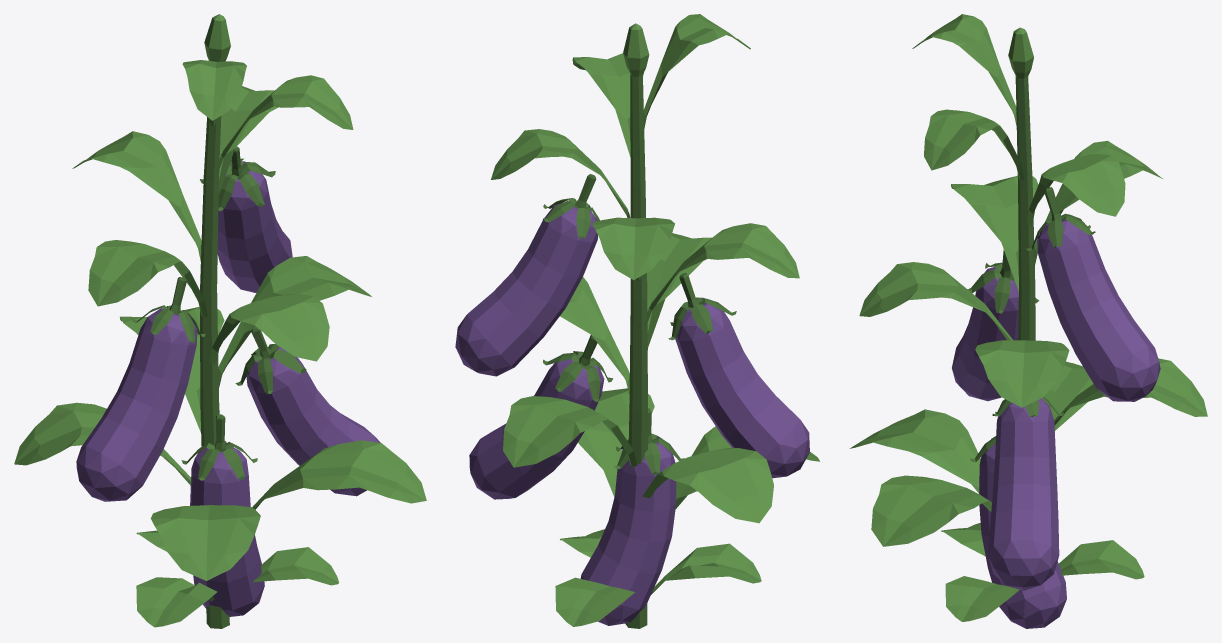
The model's file is Eggplant.fbx.
The picture shows the model from 3 angles, left to right: view 1: azimuth 30°, elevation 25°; view 2: azimuth 150°, elevation 25°; view 3: azimuth 270°, elevation 25°; orthographic projection. The views are drawn at different scales.
Parts seen in each view (by area): view 1: Eggplant_Plant, Eggplant.001, Eggplant.000, Eggplant.002, Eggplant_Crop, Eggplant_Sprout; view 2: Eggplant_Plant, Eggplant.002, Eggplant.001, Eggplant_Crop, Eggplant.000, Eggplant_Sprout; view 3: Eggplant_Plant, Eggplant.002, Eggplant.000, Eggplant_Sprout, Eggplant.001, Eggplant_Crop.
Part boxes in pixels (x1,y1,x2,y2): Eggplant_Plant: (14,14,426,628); Eggplant.001: (76,277,205,501); Eggplant.000: (235,327,380,496); Eggplant.002: (200,146,292,292); Eggplant_Crop: (181,414,264,616); Eggplant_Sprout: (136,530,338,627); Eggplant_Plant: (491,14,819,628); Eggplant.002: (455,174,599,376); Eggplant.001: (668,272,809,478); Eggplant_Crop: (580,408,684,625); Eggplant.000: (469,335,613,499); Eggplant_Sprout: (555,529,761,626); Eggplant_Plant: (849,14,1207,546); Eggplant.002: (1026,187,1160,401); Eggplant.000: (988,397,1063,590); Eggplant_Sprout: (941,523,1144,621); Eggplant.001: (952,250,1039,401); Eggplant_Crop: (970,436,1066,628).
Bounding box in the file's own units: 1.15 × 2.06 × 1.13.
